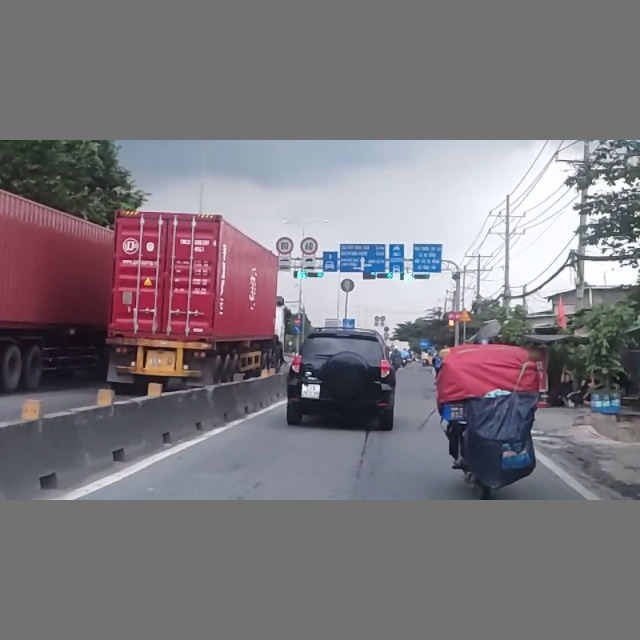P.102: (294, 317, 301, 325)
P.127*60: (300, 237, 319, 256)
P.127*80: (276, 236, 295, 255)
R.302a: (293, 325, 301, 333)
W.245a: (458, 308, 471, 321)
